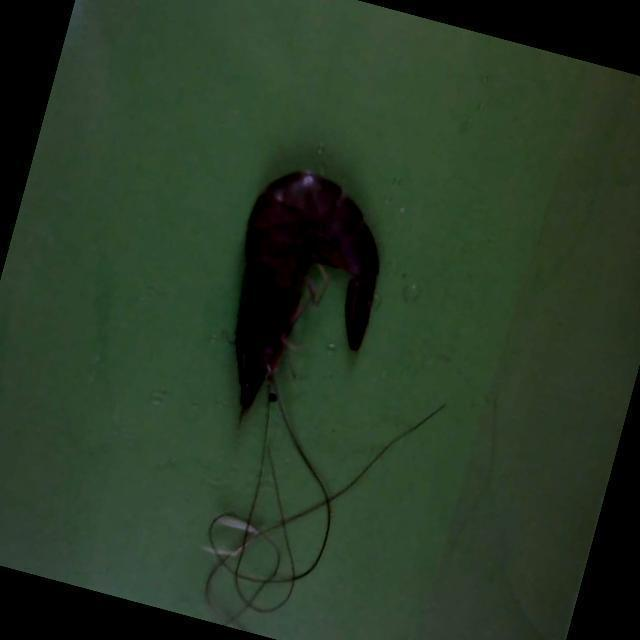shrimp: (236, 169, 378, 412)
